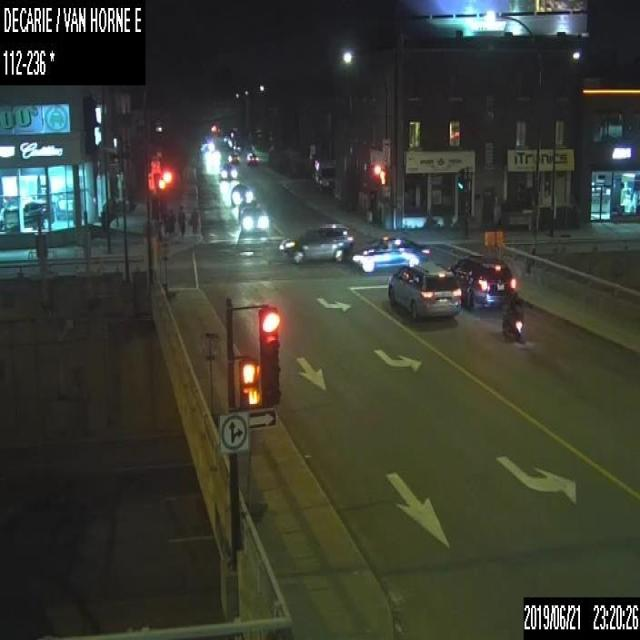construction: (245, 427, 268, 521), (199, 329, 220, 426), (158, 240, 175, 300), (483, 230, 493, 257), (494, 229, 502, 259)
pedestrian: (166, 205, 175, 237), (177, 204, 185, 239), (188, 206, 198, 233)
vehicle: (387, 262, 461, 320), (448, 254, 516, 310), (278, 221, 354, 262), (348, 235, 422, 272), (501, 288, 524, 343), (240, 200, 269, 232), (313, 159, 334, 192), (230, 183, 252, 206), (220, 161, 236, 179), (246, 152, 258, 166), (227, 151, 239, 163), (232, 140, 242, 152)
